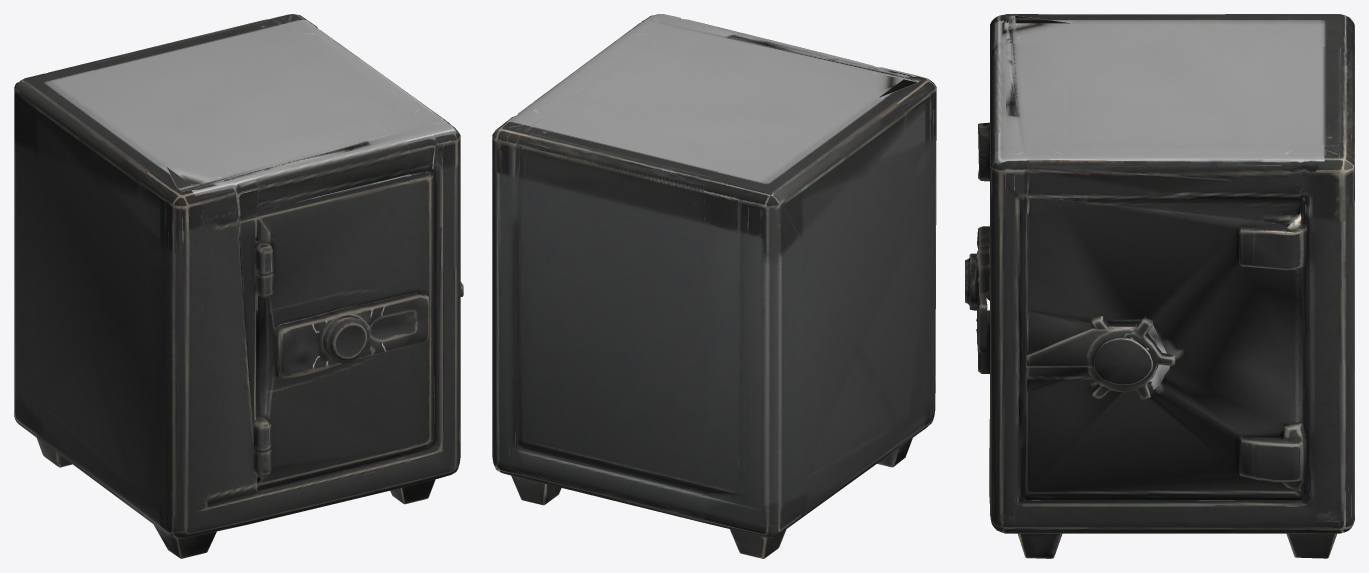
Rendered from Meshy_AI_A_stylized_low_poly_s_0428231953_texture.fbx.
The picture shows the model from 3 angles, left to right: view 1: azimuth 30°, elevation 25°; view 2: azimuth 150°, elevation 25°; view 3: azimuth 270°, elevation 25°; orthographic projection. The views are drawn at different scales.
Parts seen in each view (by area): view 1: Mesh_0; view 2: Mesh_0; view 3: Mesh_0.
Boxes of the visible parts, bbox=[...] form: Mesh_0: bbox=[14, 14, 463, 558]; Mesh_0: bbox=[492, 14, 936, 558]; Mesh_0: bbox=[965, 14, 1354, 558].
Size of the model in its own units: 162 by 191 by 165.
1 material, 1 textured.
